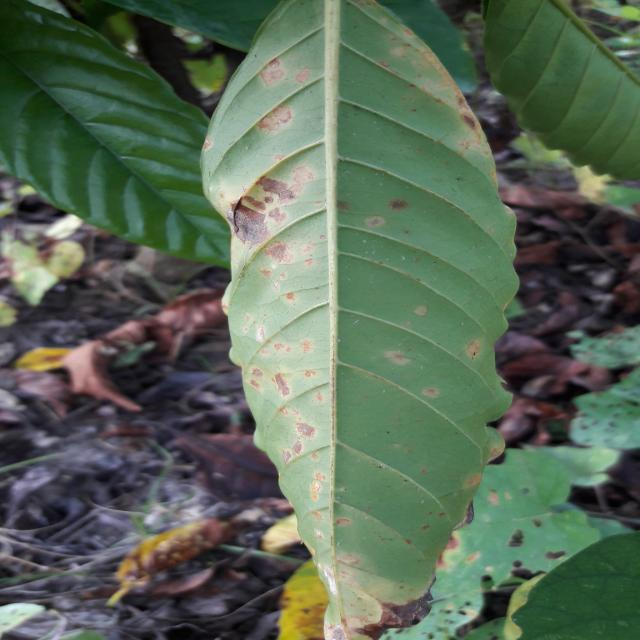Enfermedad-Roya: (199, 0, 519, 632)
